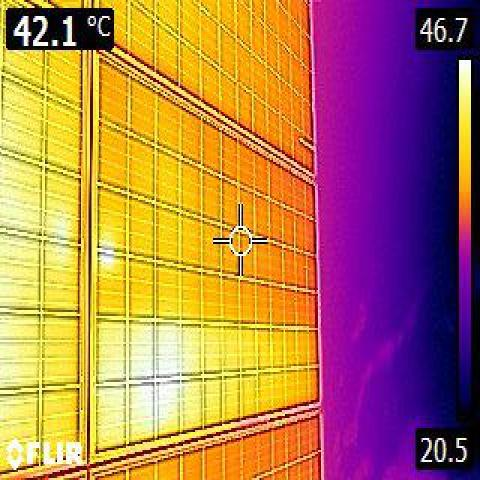fault: (97, 324, 184, 430), (99, 234, 116, 267)
